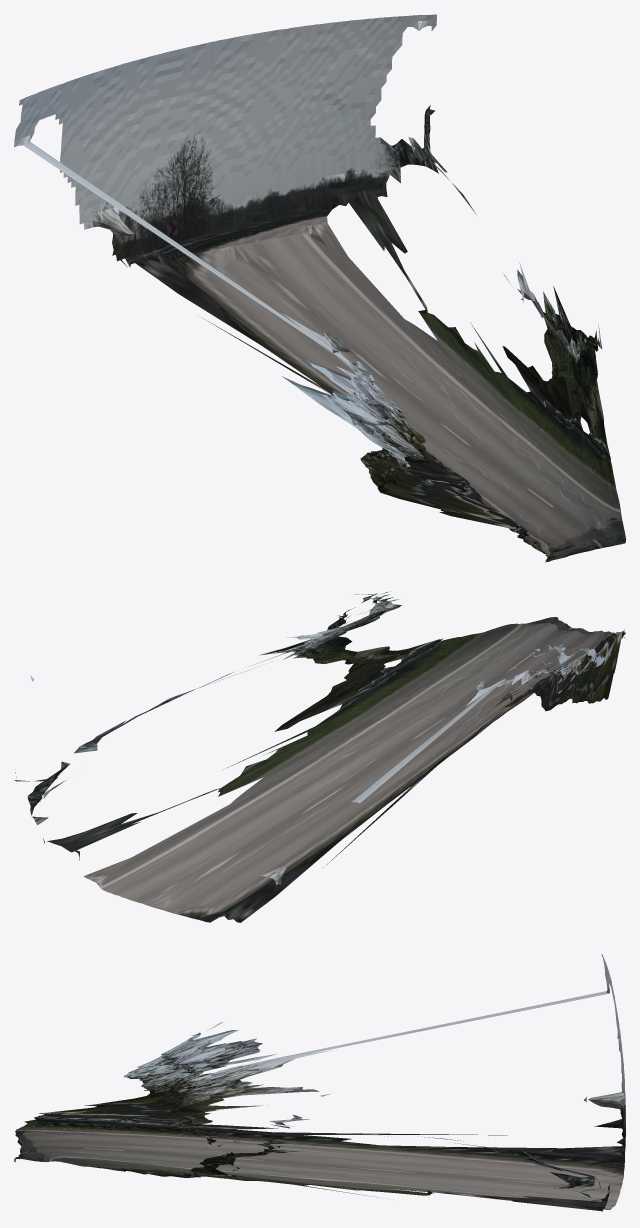
The picture shows the model from 3 angles, top to bottom: view 1: azimuth 30°, elevation 25°; view 2: azimuth 150°, elevation 25°; view 3: azimuth 270°, elevation 25°; orthographic projection. The views are drawn at different scales.
Visible parts, largest first — view 1: defaultobject; view 2: defaultobject; view 3: defaultobject.
Part boxes in pixels (<box>): defaultobject: <box>14,14,625,562</box>; defaultobject: <box>14,592,625,922</box>; defaultobject: <box>14,953,625,1211</box>.
Size of the model in its own units: 24.73 by 12.8 by 44.55.
Materials: 1 (1 with a texture image).
